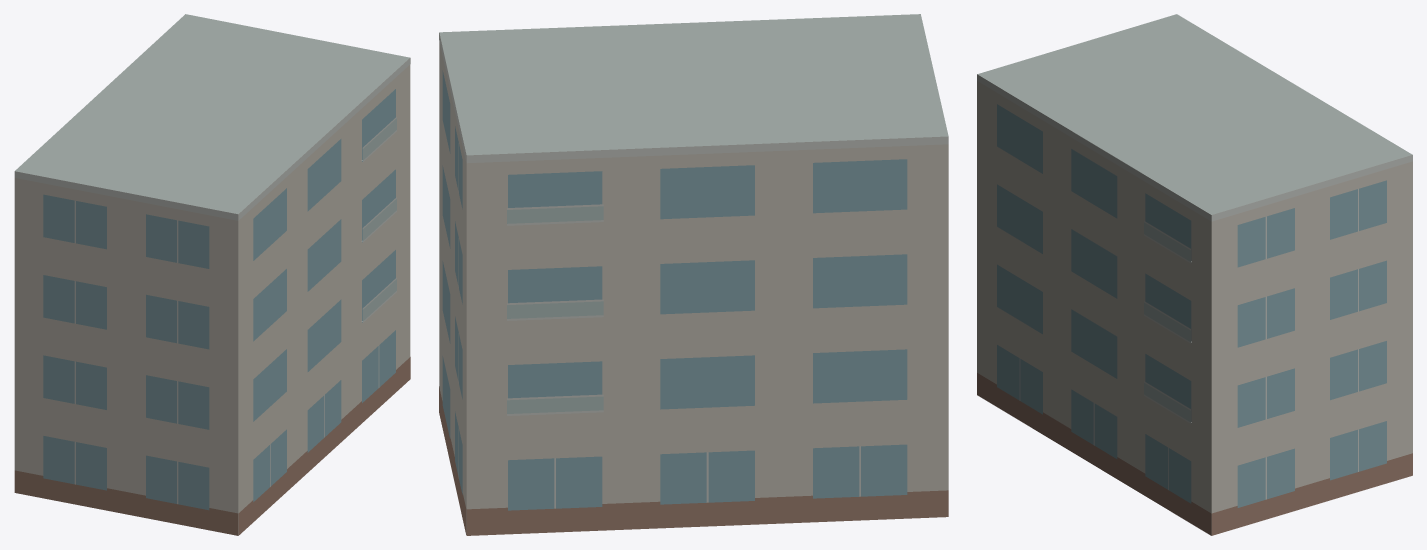
The model's file is survey-upis-32805083.glb.
The picture shows the model from 3 angles, left to right: view 1: azimuth 30°, elevation 25°; view 2: azimuth 150°, elevation 25°; view 3: azimuth 270°, elevation 25°; orthographic projection. The views are drawn at different scales.
Parts seen in each view (by area): view 1: survey-upis-32805083.tmp; view 2: survey-upis-32805083.tmp; view 3: survey-upis-32805083.tmp.
Boxes of the visible parts, x1=… form: survey-upis-32805083.tmp: x1=14, y1=14, x2=410, y2=535; survey-upis-32805083.tmp: x1=439, y1=14, x2=948, y2=535; survey-upis-32805083.tmp: x1=977, y1=14, x2=1412, y2=535.
Bounding box in the file's own units: 16.01 × 11.9 × 14.66.
